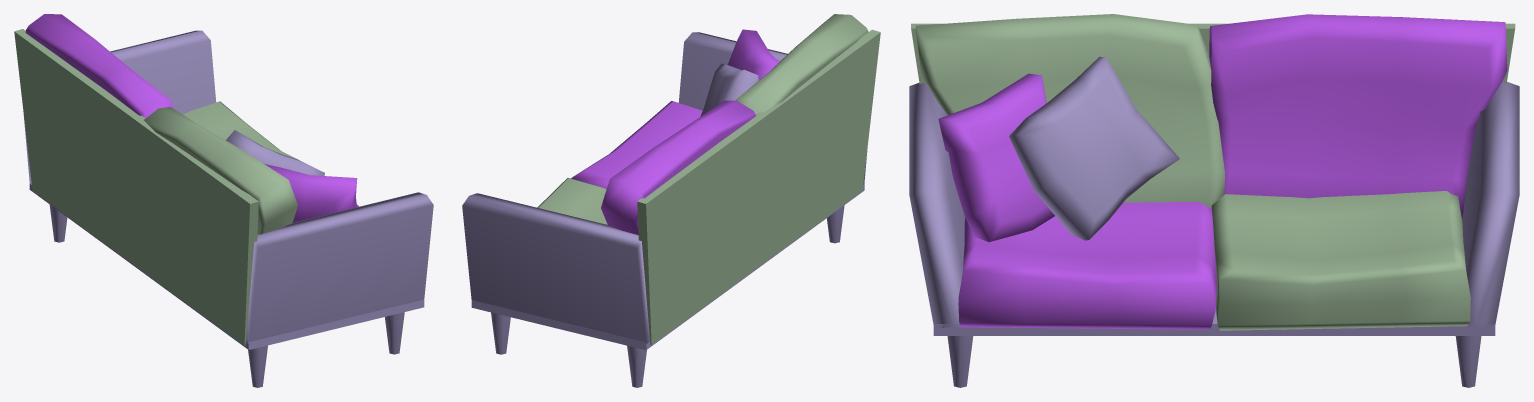
Rendered from Friday_TristanCouch.fbx.
3 views of the same model, side by side, from view 1: azimuth 30°, elevation 25°; view 2: azimuth 150°, elevation 25°; view 3: azimuth 270°, elevation 25° (orthographic). The views are drawn at different scales.
Visible parts, largest first — view 1: Cushions1, Other, Cushions, Pillow; view 2: Cushions1, Other, Cushions, Pillow; view 3: Cushions, Cushions1, Other, Pillow.
Boxes of the visible parts, bbox=[...] form: Cushions1: bbox=[14, 29, 309, 345]; Other: bbox=[23, 30, 433, 387]; Cushions: bbox=[25, 14, 358, 206]; Pillow: bbox=[264, 164, 357, 222]; Cushions1: bbox=[537, 14, 880, 345]; Other: bbox=[462, 32, 867, 387]; Cushions: bbox=[571, 100, 756, 234]; Pillow: bbox=[727, 29, 779, 80]; Cushions: bbox=[958, 14, 1507, 329]; Cushions1: bbox=[911, 14, 1515, 330]; Other: bbox=[909, 56, 1519, 387]; Pillow: bbox=[938, 73, 1054, 242].
Bounding box in the file's own units: 26.11 × 27.7 × 54.06.
